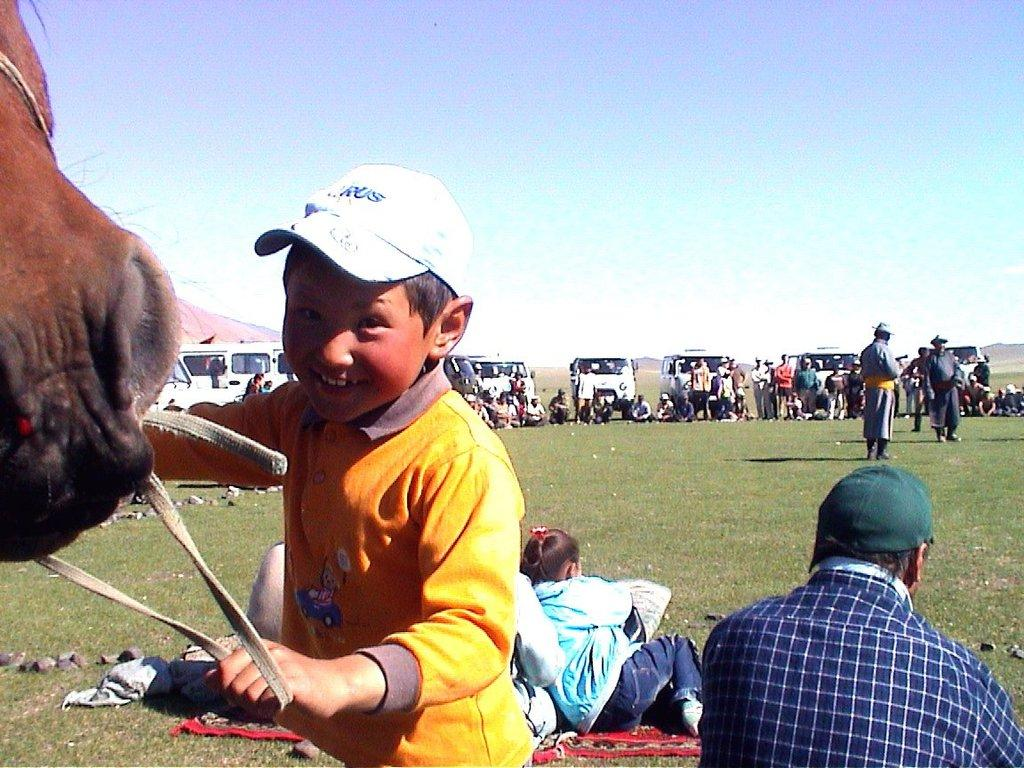Hat: (254, 162, 466, 293), (812, 463, 936, 551), (866, 320, 894, 338), (931, 335, 948, 347)
